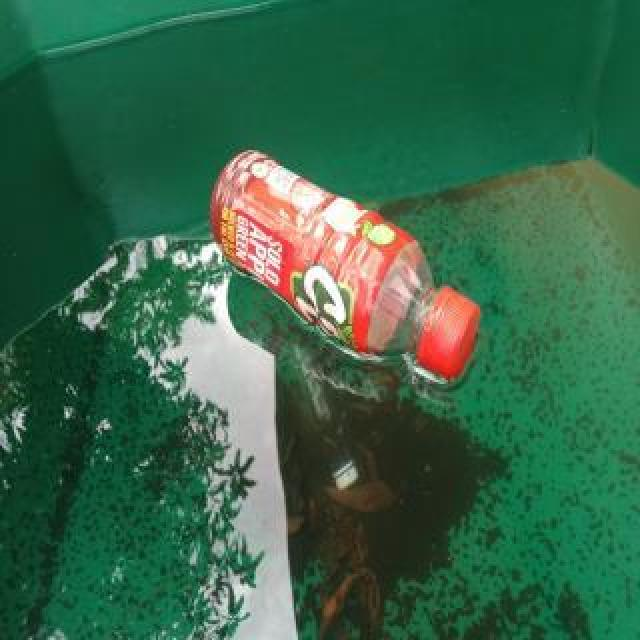bottle: (208, 146, 482, 388)
